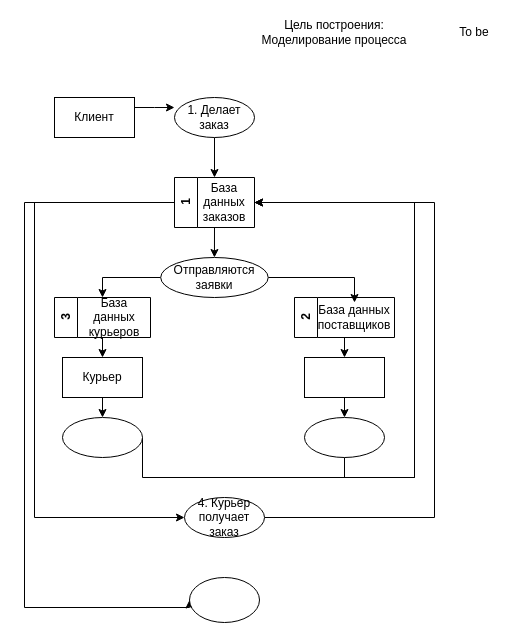
The diagram is 522 pixels wide and 640 high, and some of its shapes have lost their labels. Here are the shapes that lost their labels. From the top down, the box of each, then its label:
(304, 356, 384, 398): Поставщик
(62, 416, 142, 458): 3. Отправляется курьер
(304, 416, 384, 458): 2. Собирают заказ
(188, 576, 260, 622): 5. Клиент получает заказ
